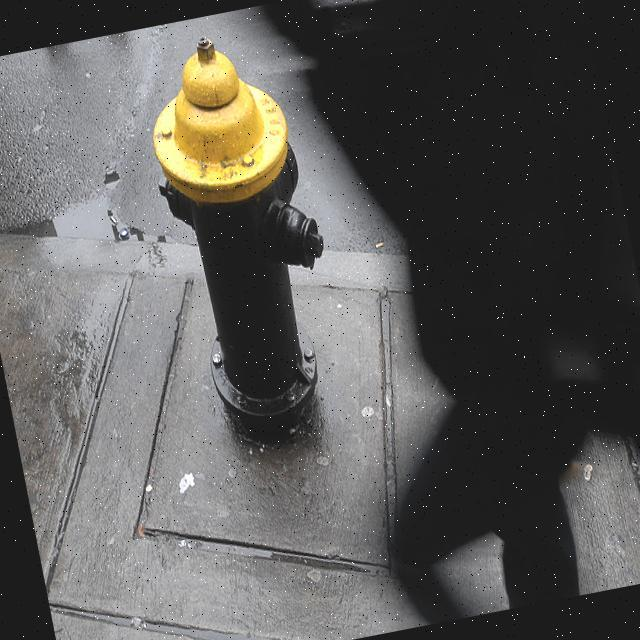fire_hydrant: (130, 19, 358, 439)
